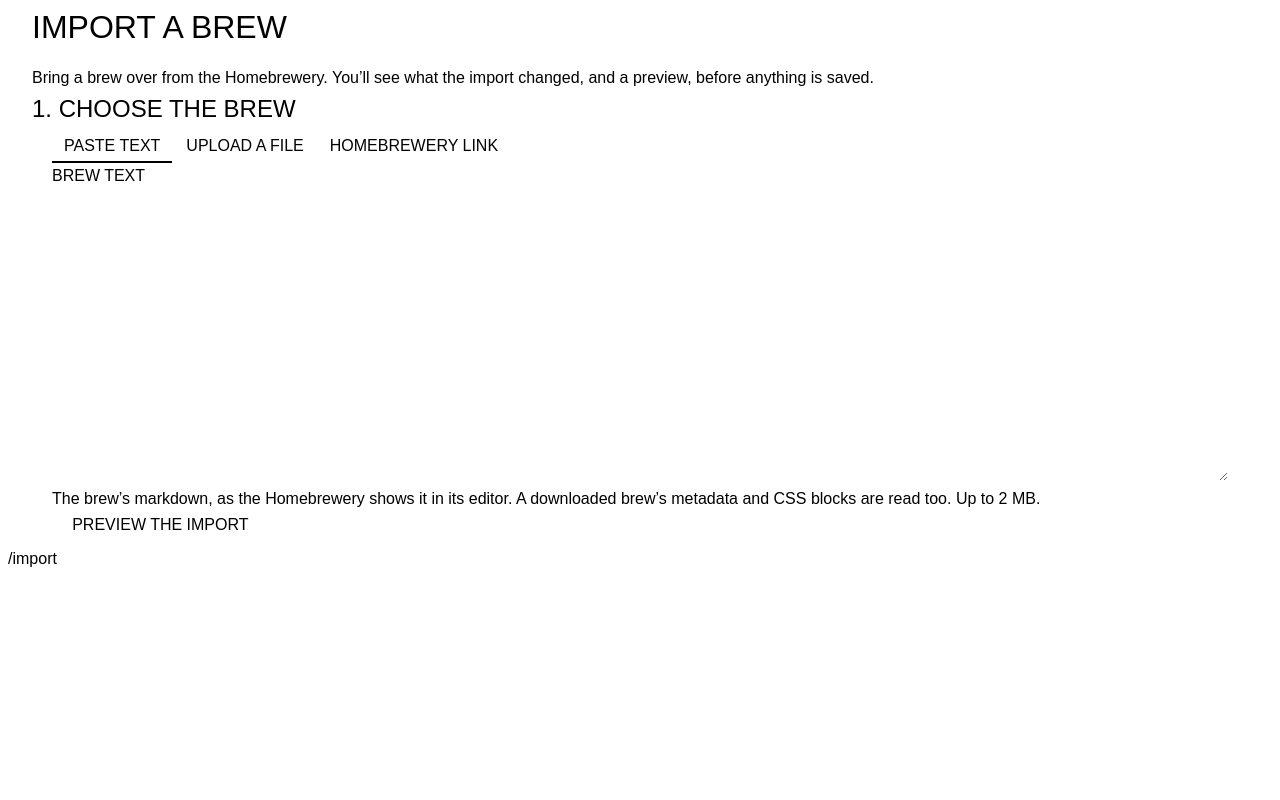
Test: ImportPage › refuses an empty paste
Click the button "Preview the import" at coordinates (160, 525), box top-left (52, 514), bottom-right (269, 535)
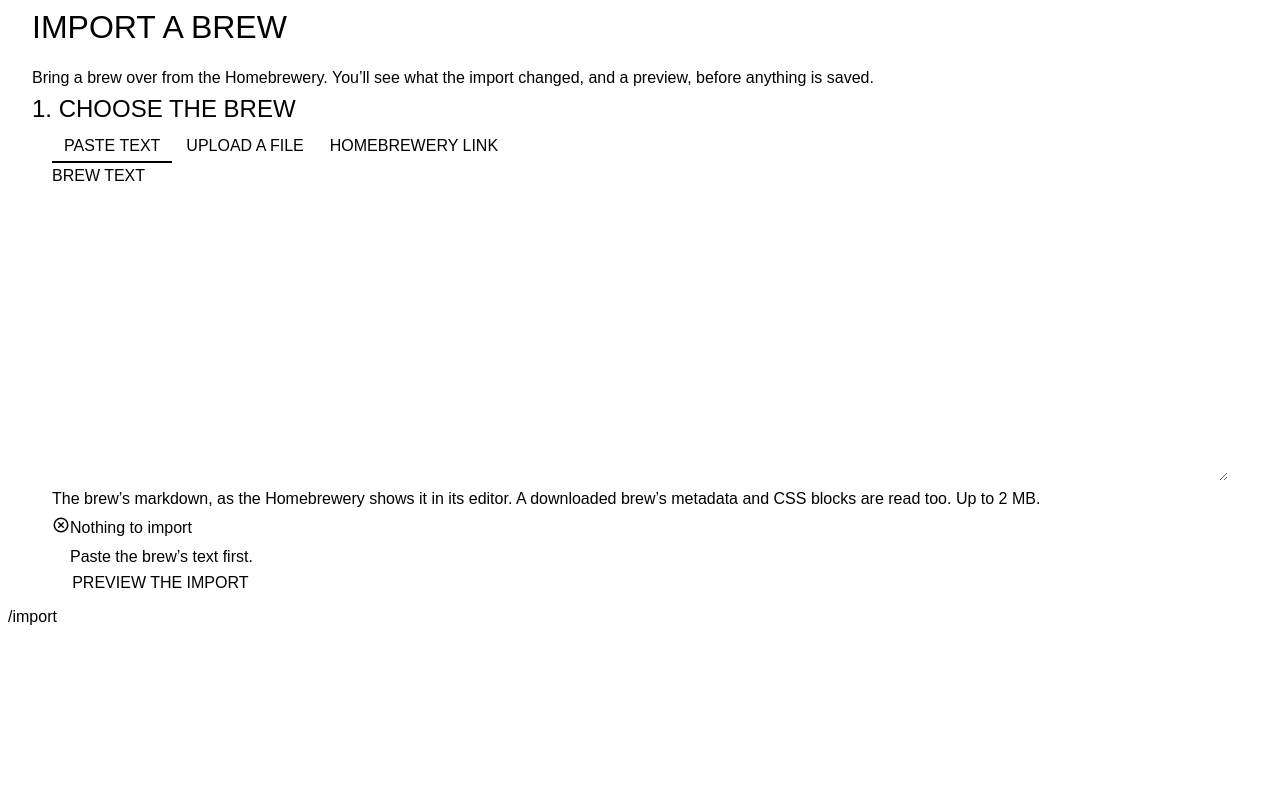
Check: the message with test id "import-paste-error" shows "Paste the brew’s text first.", box top-left (70, 548), bottom-right (253, 565)
Type "x" into the text box labelled "Brew text" at coordinates (640, 338), box top-left (52, 195), bottom-right (1228, 481)
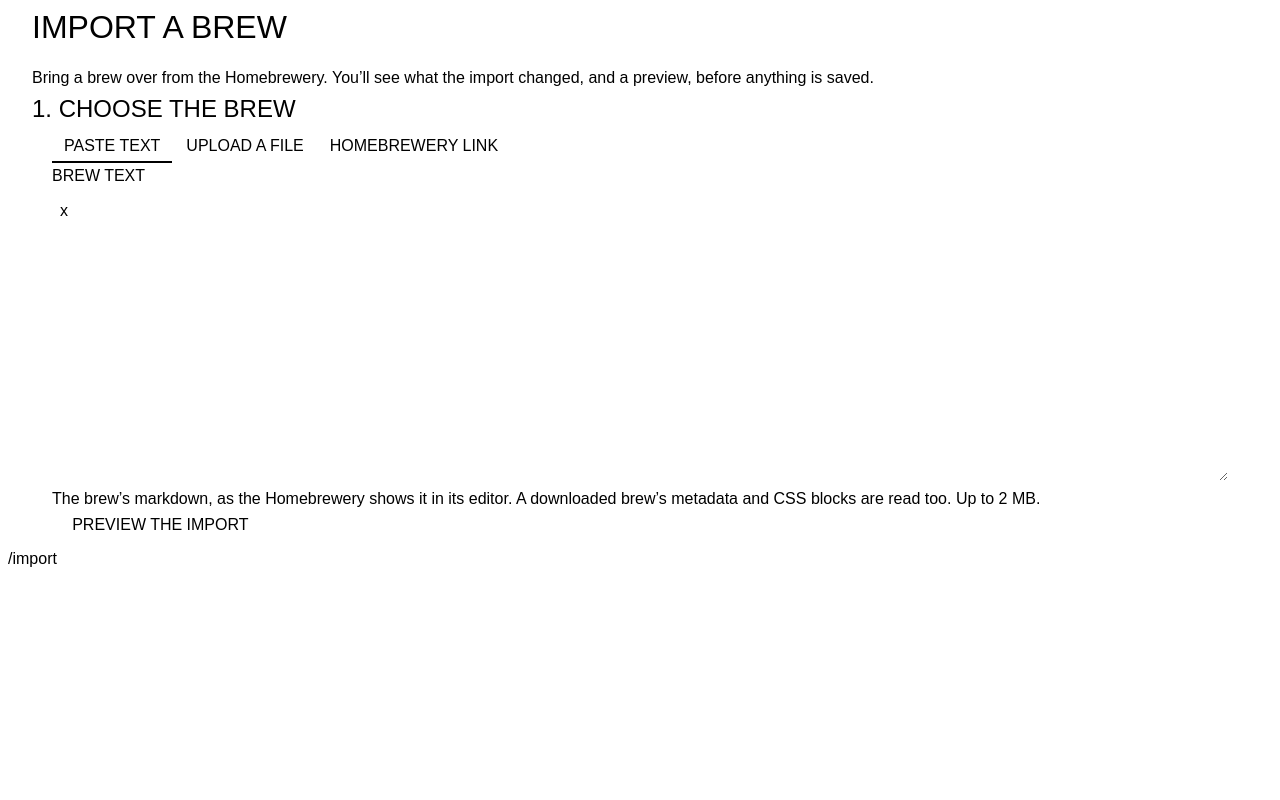
Check: the message with test id "import-paste-error" is gone
